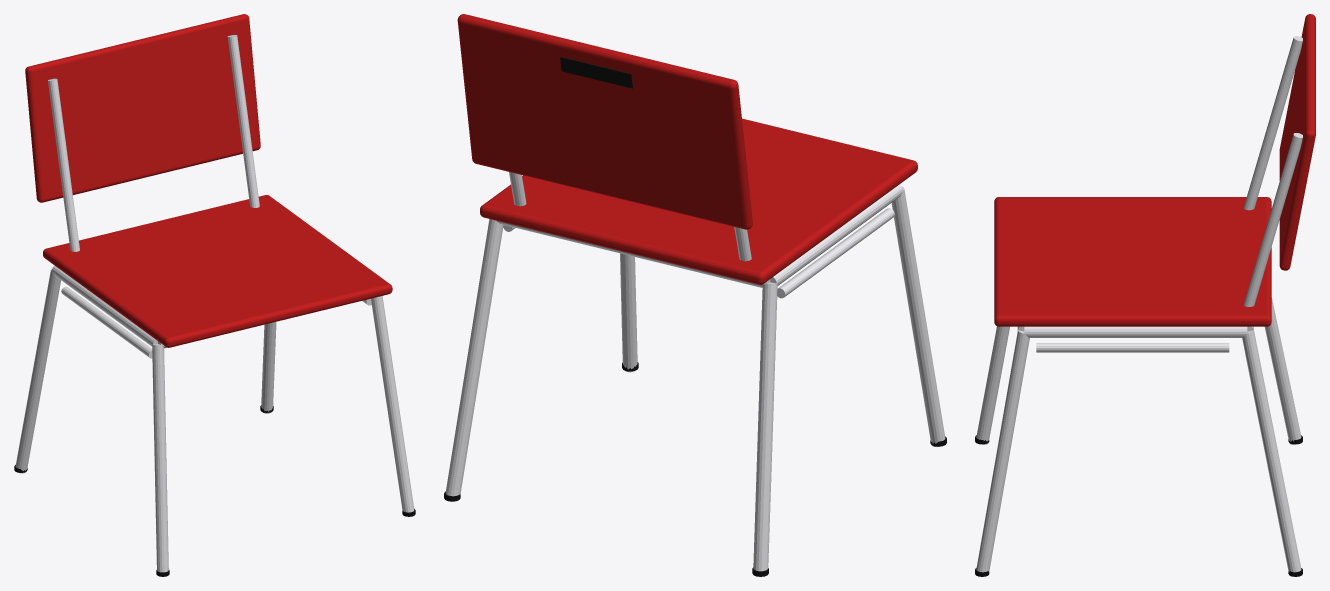
Rendered from 087_stacking_chair.glb.
3 views of the same model, side by side, from view 1: azimuth 30°, elevation 25°; view 2: azimuth 150°, elevation 25°; view 3: azimuth 270°, elevation 25° (orthographic). The views are drawn at different scales.
Parts seen in each view (by area): view 1: 014_seat_shell, 017_back_shell, 000_front_leg, 006_front_leg, 001_rear_leg, 015_back_strut, 016_back_strut, 007_rear_leg, 002_side_rail, 003_stacking_bumper_rail; view 2: 017_back_shell, 014_seat_shell, 001_rear_leg, 007_rear_leg, 000_front_leg, 006_front_leg, 002_side_rail, 003_stacking_bumper_rail, 018_stacking_hand_hole, 013_rear_cross; view 3: 014_seat_shell, 017_back_shell, 007_rear_leg, 006_front_leg, 008_side_rail, 015_back_strut, 016_back_strut, 009_stacking_bumper_rail, 001_rear_leg, 000_front_leg.
Boxes of the visible parts, <box> form: 014_seat_shell: <box>43,195,392,347</box>; 017_back_shell: <box>25,14,260,202</box>; 000_front_leg: <box>152,344,168,572</box>; 006_front_leg: <box>371,296,414,512</box>; 001_rear_leg: <box>15,267,60,473</box>; 015_back_strut: <box>48,78,79,251</box>; 016_back_strut: <box>227,35,259,207</box>; 007_rear_leg: <box>261,322,276,413</box>; 002_side_rail: <box>52,265,157,346</box>; 003_stacking_bumper_rail: <box>61,286,152,358</box>; 017_back_shell: <box>457,14,752,229</box>; 014_seat_shell: <box>480,118,917,284</box>; 001_rear_leg: <box>753,282,777,571</box>; 007_rear_leg: <box>445,219,503,496</box>; 000_front_leg: <box>891,186,945,446</box>; 006_front_leg: <box>620,253,637,372</box>; 002_side_rail: <box>770,184,903,285</box>; 003_stacking_bumper_rail: <box>777,208,894,298</box>; 018_stacking_hand_hole: <box>560,57,632,88</box>; 013_rear_cross: <box>497,221,770,287</box>; 014_seat_shell: <box>994,197,1271,326</box>; 017_back_shell: <box>1279,14,1315,270</box>; 007_rear_leg: <box>1242,330,1301,576</box>; 006_front_leg: <box>976,330,1029,572</box>; 008_side_rail: <box>1024,326,1247,337</box>; 015_back_strut: <box>1243,36,1302,210</box>; 016_back_strut: <box>1243,133,1302,306</box>; 009_stacking_bumper_rail: <box>1036,343,1229,352</box>; 001_rear_leg: <box>1264,297,1301,444</box>; 000_front_leg: <box>976,326,1009,444</box>.
Bounding box in the file's own units: 0.544 × 0.799 × 0.5656.
